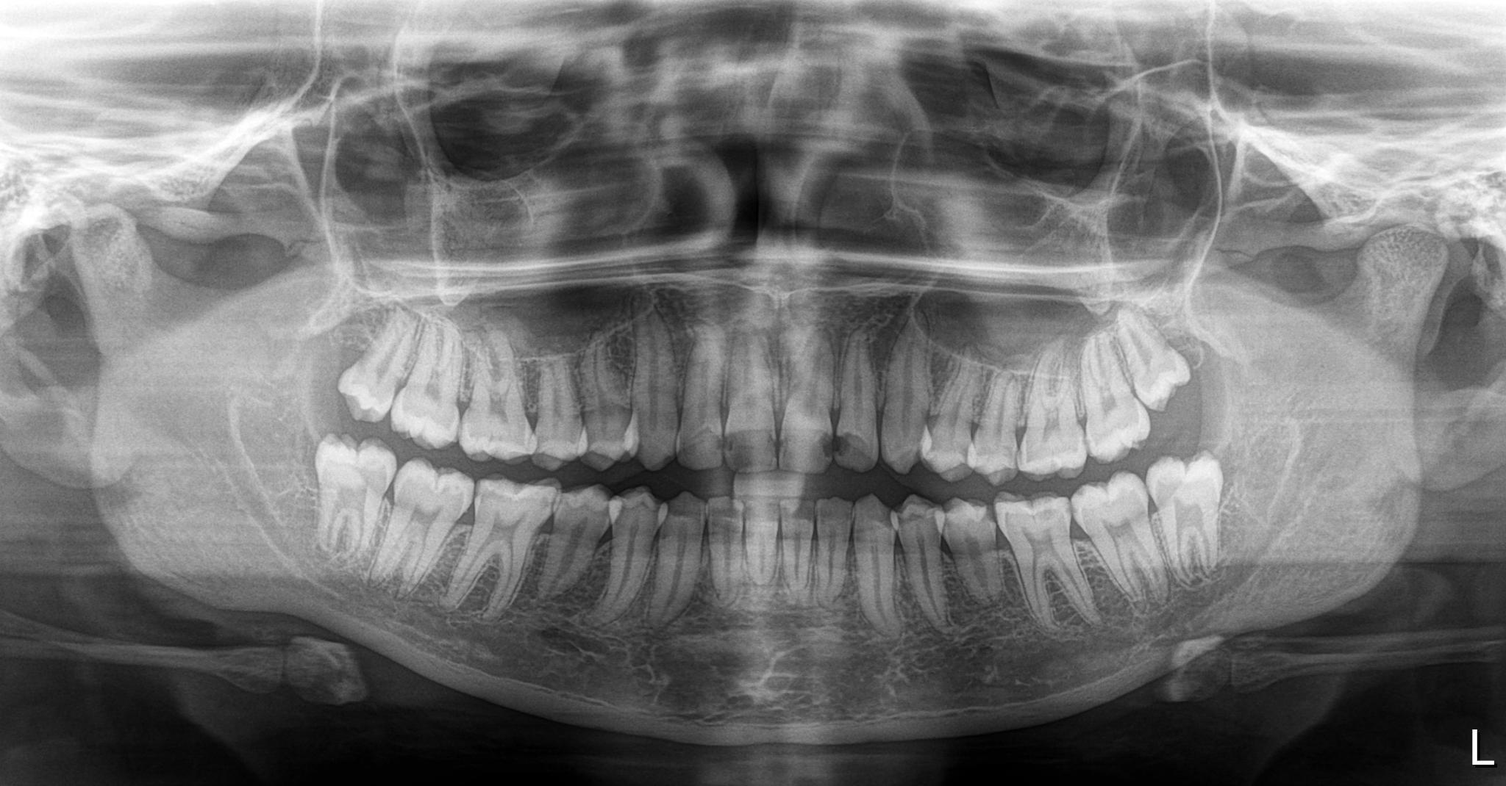Dental Caries: (722, 416, 785, 469), (818, 428, 863, 466)
